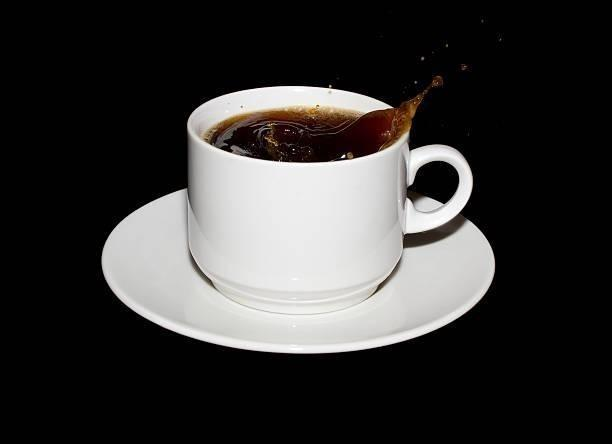cup-handle: (185, 84, 473, 315)
